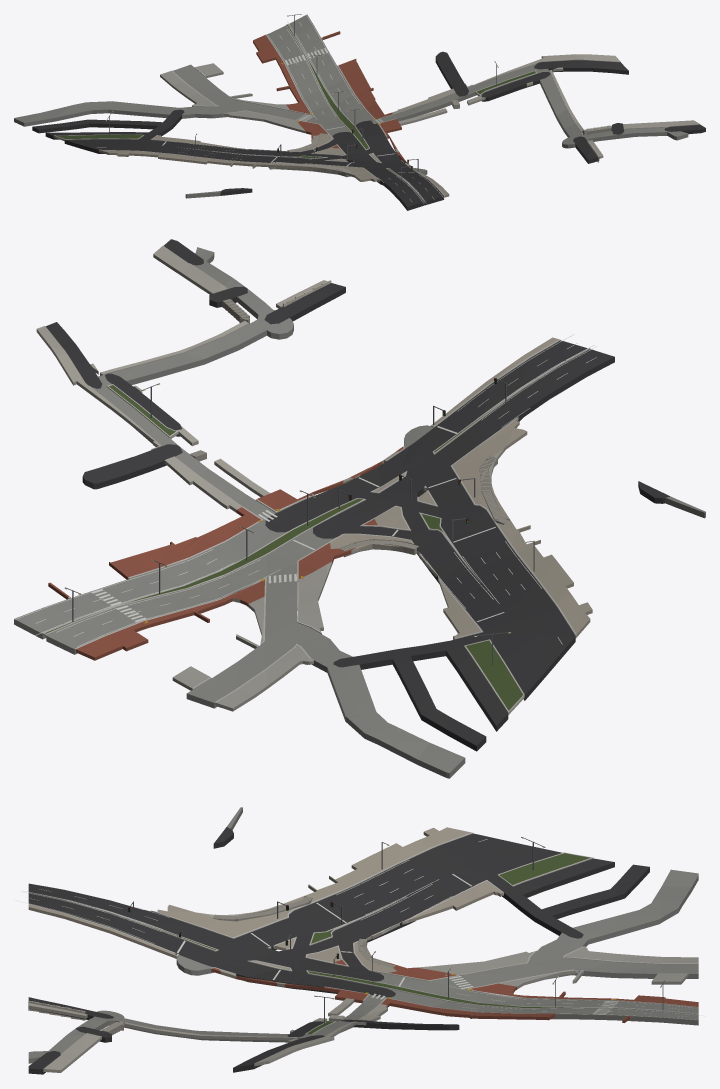
3 views of the same model, one above another, from view 1: azimuth 30°, elevation 25°; view 2: azimuth 150°, elevation 25°; view 3: azimuth 270°, elevation 25° (orthographic). The views are drawn at different scales.
Bounding box in the file's own units: 147 × 24.7 × 151.
